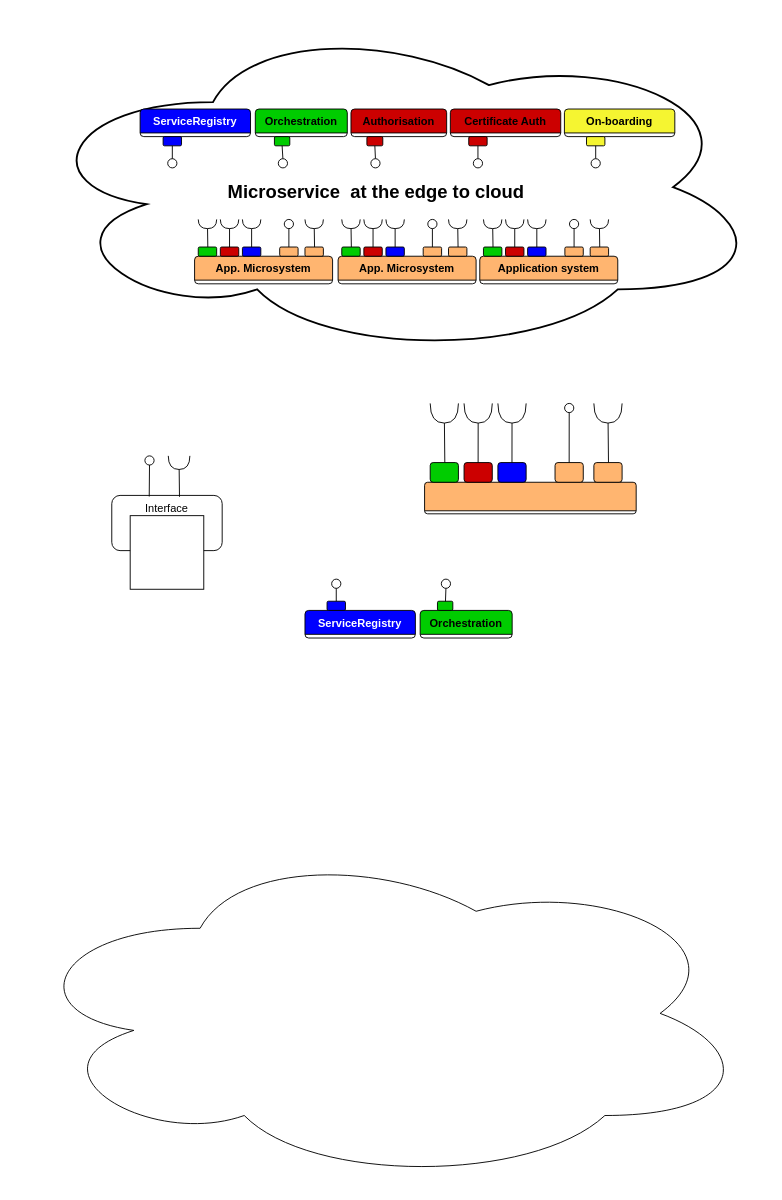
Some shapes in this 782 by 1200 pixel diagram are drawn without their labels. Each missing label, with the centre of its shape:
"Application microsystem" belongs at point (530, 497).
"Thing" belongs at point (166, 552).
